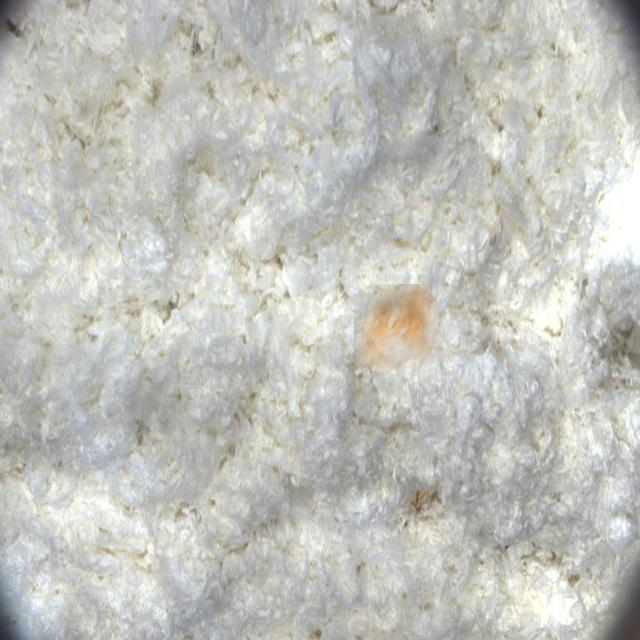dust: (354, 284, 441, 371)
